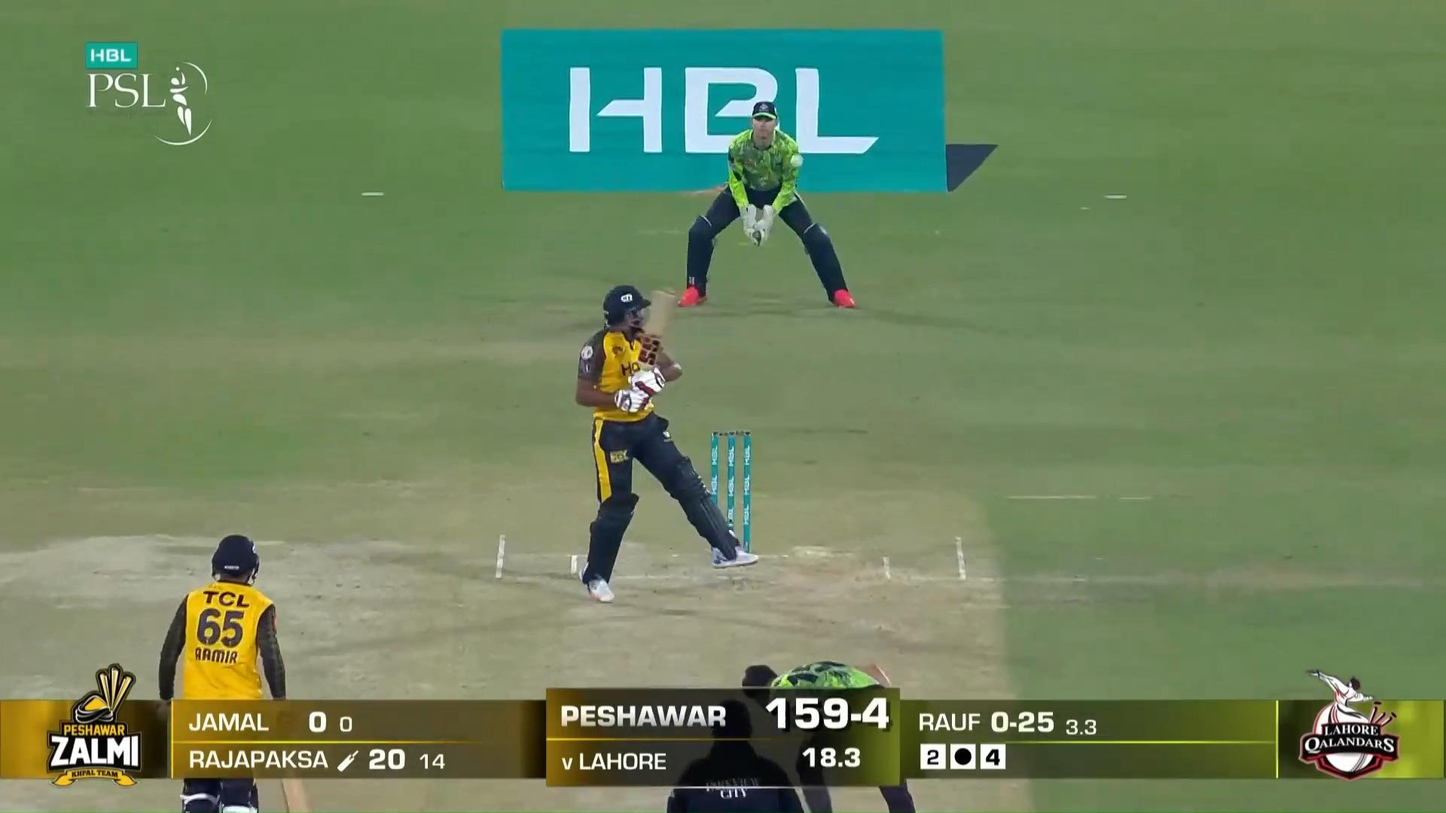batsman: (575, 283, 760, 602)
